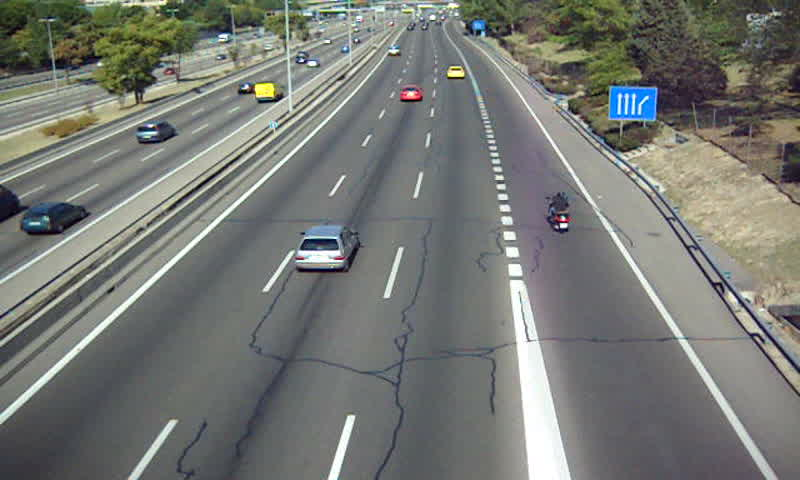car: (295, 225, 357, 270), (398, 84, 421, 103), (447, 67, 466, 80), (387, 46, 402, 57)
motorcycle: (548, 192, 572, 234)
